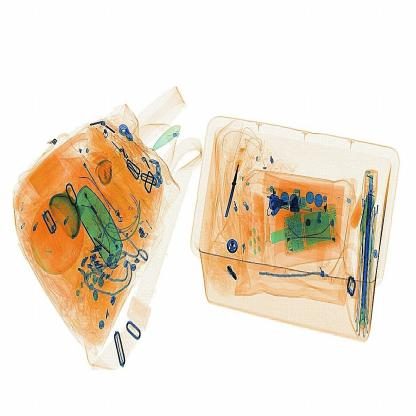gun: (222, 142, 243, 219)
